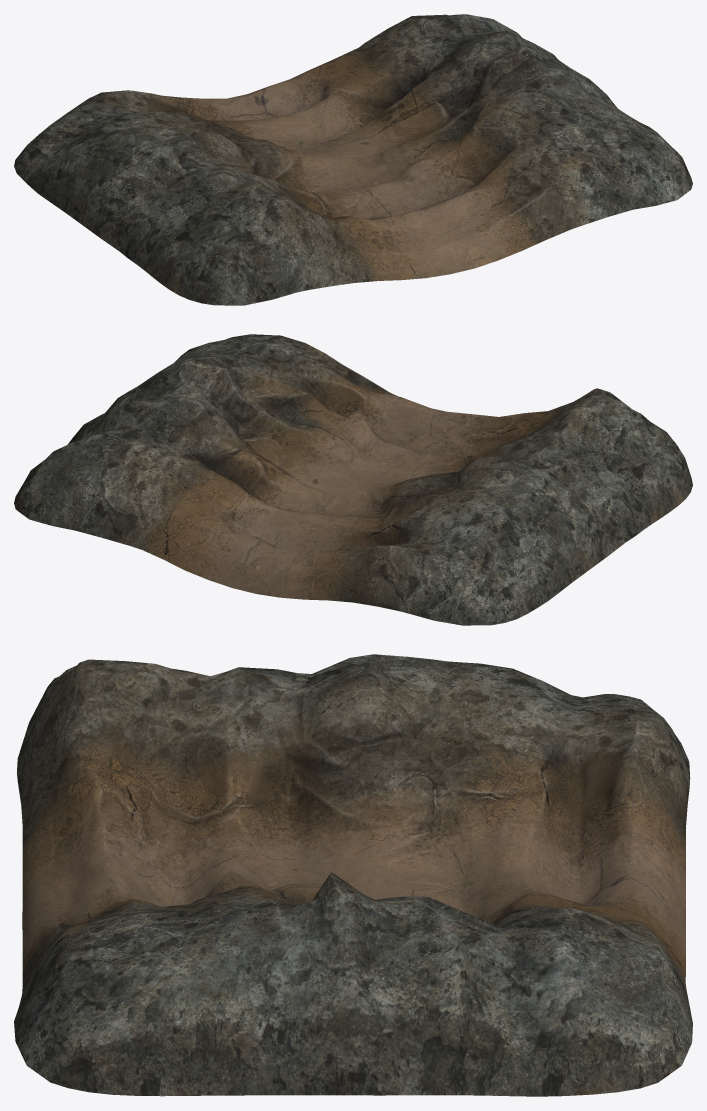
File: cave_ravine_floor_01_straight.dae
3 renders of one model, top to bottom at view 1: azimuth 30°, elevation 25°; view 2: azimuth 150°, elevation 25°; view 3: azimuth 270°, elevation 25°, orthographic. The views are drawn at different scales.
Visible parts, largest first — view 1: floor_1_low; view 2: floor_1_low; view 3: floor_1_low.
Part boxes in pixels (box(x1,y1,x2,y2)): floor_1_low: box(14, 14, 692, 305); floor_1_low: box(14, 334, 692, 625); floor_1_low: box(14, 654, 692, 1096).
Size of what is drawn, in the model's own units: 1.77 by 0.3531 by 1.33.
